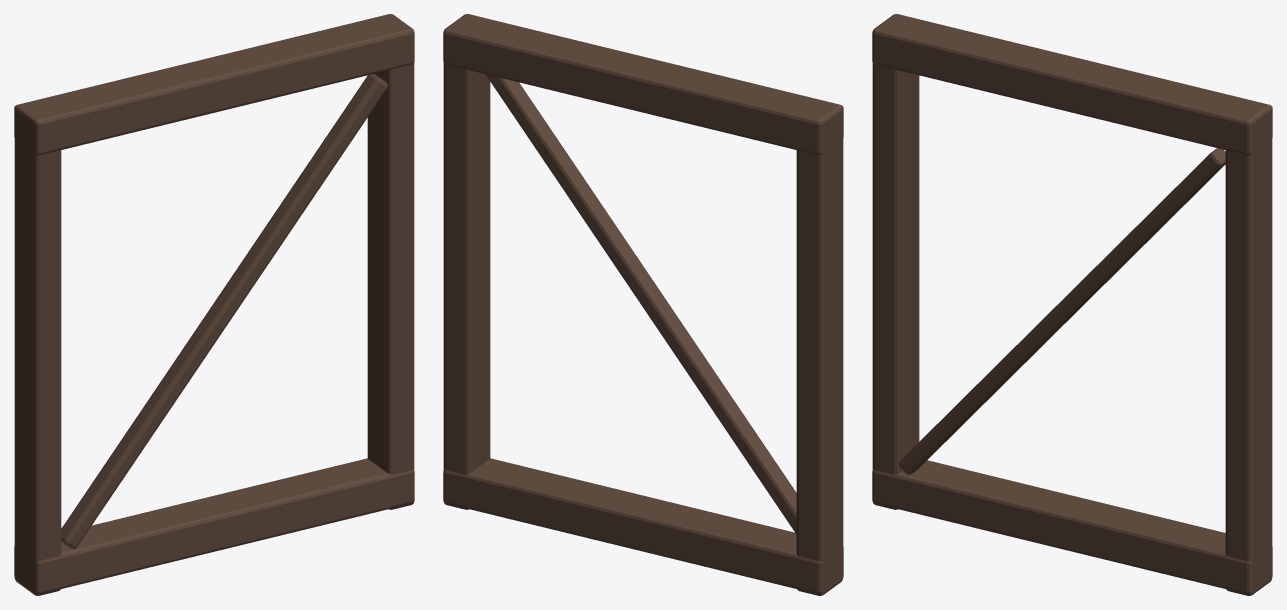
Rendered from wall_plain_2m__structure.glb.
3 renders of one model, left to right at view 1: azimuth 30°, elevation 25°; view 2: azimuth 150°, elevation 25°; view 3: azimuth 330°, elevation 25°, orthographic.
Parts seen in each view (by area): view 1: wall_plain_2m__structure__mesh_00; view 2: wall_plain_2m__structure__mesh_00; view 3: wall_plain_2m__structure__mesh_00.
Boxes of the visible parts, box(x1,y1,x2,y2) form: wall_plain_2m__structure__mesh_00: box(14, 14, 414, 595); wall_plain_2m__structure__mesh_00: box(443, 14, 843, 595); wall_plain_2m__structure__mesh_00: box(872, 14, 1272, 595).
Bounding box in the file's own units: 2 × 2.4 × 0.2315.
